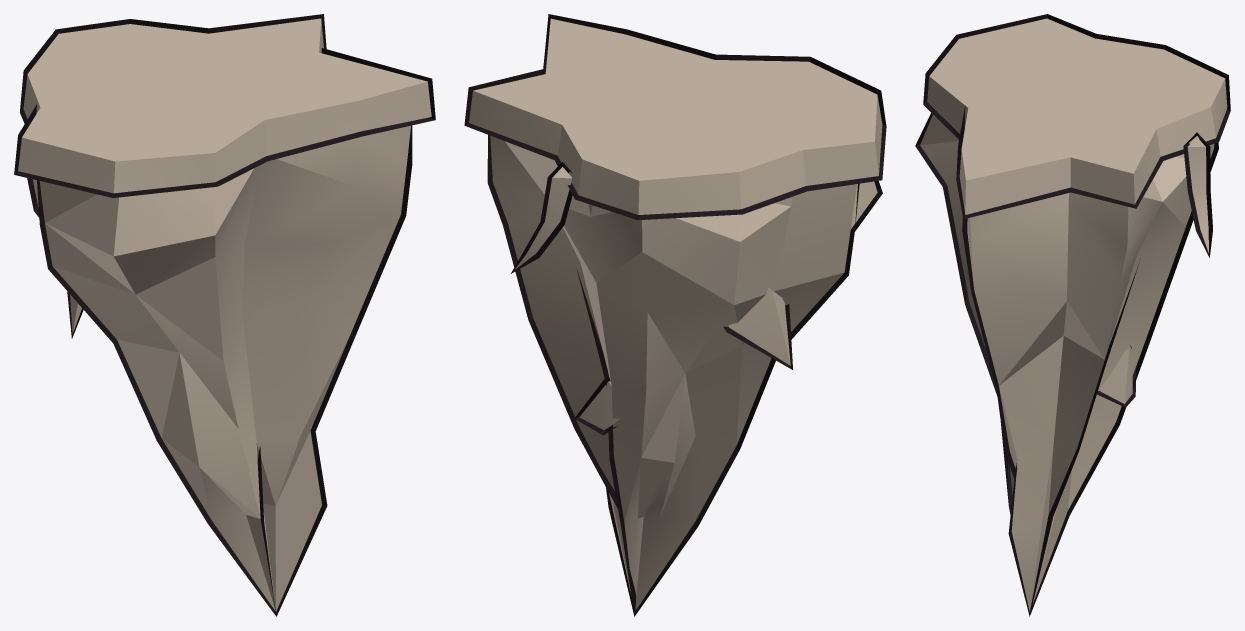
File: SM_Trail_Islet_01.fbx
The picture shows the model from 3 angles, left to right: view 1: azimuth 30°, elevation 25°; view 2: azimuth 150°, elevation 25°; view 3: azimuth 270°, elevation 25°; orthographic projection. The views are drawn at different scales.
Visible parts, largest first — view 1: SM_Trail_Islet_01; view 2: SM_Trail_Islet_01; view 3: SM_Trail_Islet_01.
Part boxes in pixels (left/top/right/bottom): SM_Trail_Islet_01: left=14, top=14, right=435, bottom=616; SM_Trail_Islet_01: left=464, top=14, right=886, bottom=616; SM_Trail_Islet_01: left=915, top=14, right=1230, bottom=616.
Bounding box in the file's own units: 11.19 × 15.28 × 8.86.
